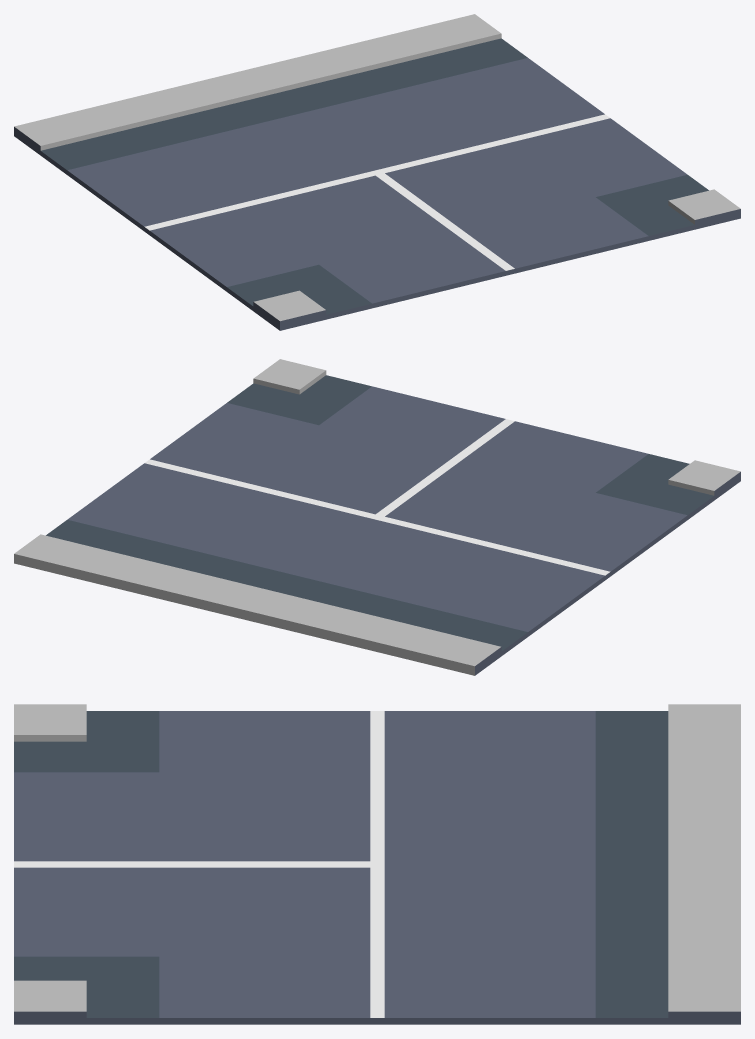
Rendered from SM_Road_Intersection_Line.fbx.
The picture shows the model from 3 angles, top to bottom: view 1: azimuth 30°, elevation 25°; view 2: azimuth 150°, elevation 25°; view 3: azimuth 270°, elevation 25°; orthographic projection. The views are drawn at different scales.
Parts seen in each view (by area): view 1: SM_Road_Intersection_Line; view 2: SM_Road_Intersection_Line; view 3: SM_Road_Intersection_Line.
Boxes of the visible parts, x1,y1,x2,y2 form: SM_Road_Intersection_Line: (14, 14, 740, 330); SM_Road_Intersection_Line: (14, 359, 740, 675); SM_Road_Intersection_Line: (14, 704, 740, 1024).
Bounding box in the file's own units: 1000 × 20 × 1000.
